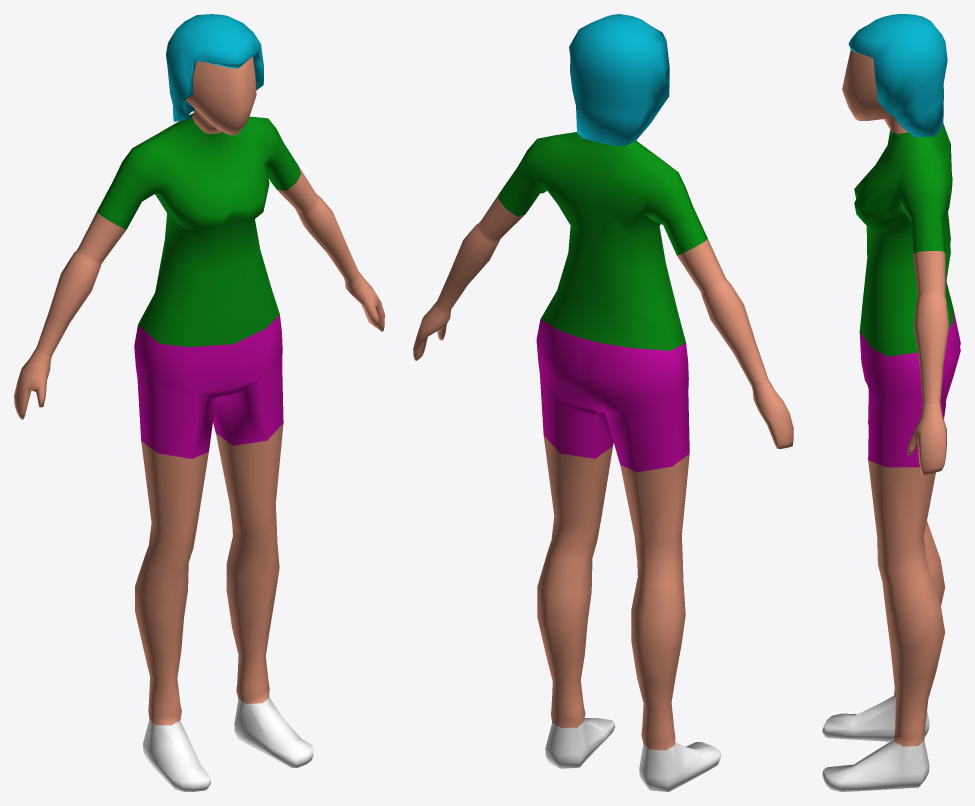
Rendered from female2.gltf.
3 views of the same model, side by side, from view 1: azimuth 30°, elevation 25°; view 2: azimuth 150°, elevation 25°; view 3: azimuth 270°, elevation 25° (orthographic). The views are drawn at different scales.
Parts seen in each view (by area): view 1: corpo; view 2: corpo; view 3: corpo.
Part boxes in pixels (bbox=[...]): corpo: bbox=[14, 14, 384, 791]; corpo: bbox=[413, 14, 793, 791]; corpo: bbox=[822, 14, 960, 791].
Size of the model in its own units: 0.9131 by 1.75 by 0.2982.
